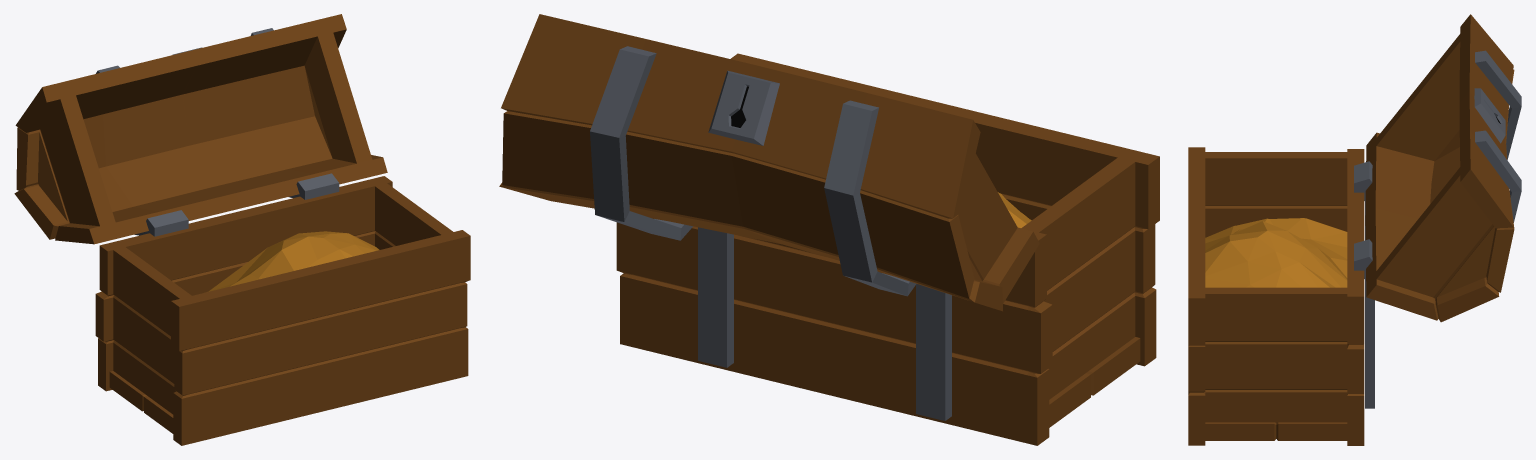
Rendered from OpenChestGold.fbx.
3 views of the same model, side by side, from view 1: azimuth 30°, elevation 25°; view 2: azimuth 150°, elevation 25°; view 3: azimuth 270°, elevation 25° (orthographic). The views are drawn at different scales.
Visible parts, largest first — view 1: OpenChestGold; view 2: OpenChestGold; view 3: OpenChestGold.
Boxes of the visible parts, bbox=[...] form: OpenChestGold: bbox=[14, 14, 470, 445]; OpenChestGold: bbox=[499, 14, 1159, 445]; OpenChestGold: bbox=[1188, 14, 1521, 445].
Bounding box in the file's own units: 97.59 × 74.89 × 80.76.
